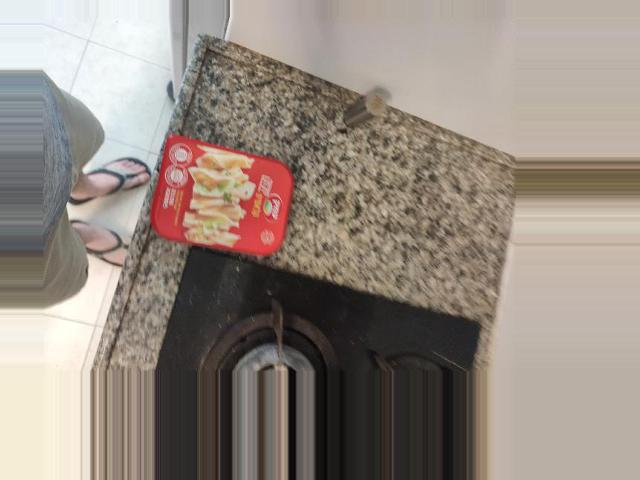cheese: (270, 132, 427, 256)
